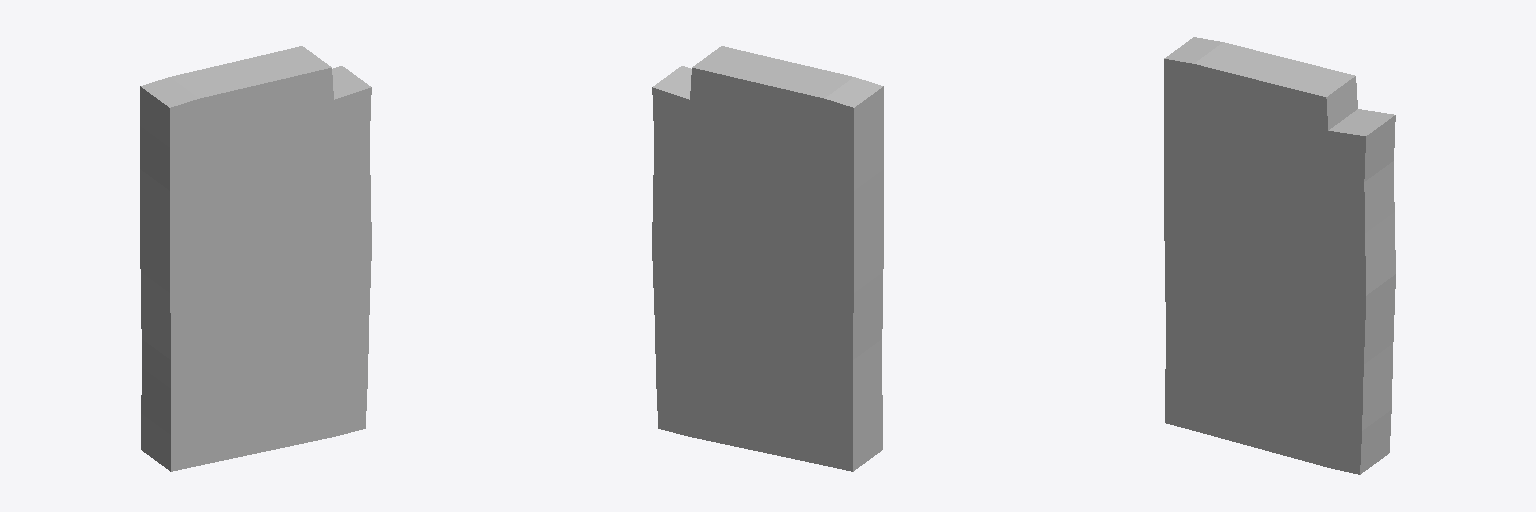
The model's file is sajay_room_areas.obj.
3 views of the same model, side by side, from view 1: azimuth 30°, elevation 25°; view 2: azimuth 150°, elevation 25°; view 3: azimuth 330°, elevation 25° (orthographic).
Visible parts, largest first — view 1: outside, dining_room, kitchen, living_room, bedroom, bathroom, door; view 2: outside, dining_room, kitchen, living_room, bedroom, bathroom, door; view 3: outside, dining_room, kitchen, living_room, bedroom, bathroom, door.
Boxes of the visible parts, <box> form: outside: <box>140,46,371,471</box>; dining_room: <box>209,154,332,281</box>; kitchen: <box>213,256,333,353</box>; living_room: <box>224,325,334,422</box>; bedroom: <box>207,117,287,175</box>; bathroom: <box>288,142,332,206</box>; door: <box>223,342,268,376</box>; outside: <box>652,46,883,471</box>; dining_room: <box>691,154,814,281</box>; kitchen: <box>690,256,810,353</box>; living_room: <box>689,325,799,422</box>; bedroom: <box>736,117,816,175</box>; bathroom: <box>691,142,735,206</box>; door: <box>755,342,800,376</box>; outside: <box>1164,37,1395,474</box>; dining_room: <box>1204,146,1327,284</box>; kitchen: <box>1207,255,1327,355</box>; living_room: <box>1218,340,1328,425</box>; bedroom: <box>1201,105,1282,161</box>; bathroom: <box>1282,162,1327,224</box>; door: <box>1217,329,1263,364</box>.
Bounding box in the file's own units: 11.83 × 20.73 × 3.